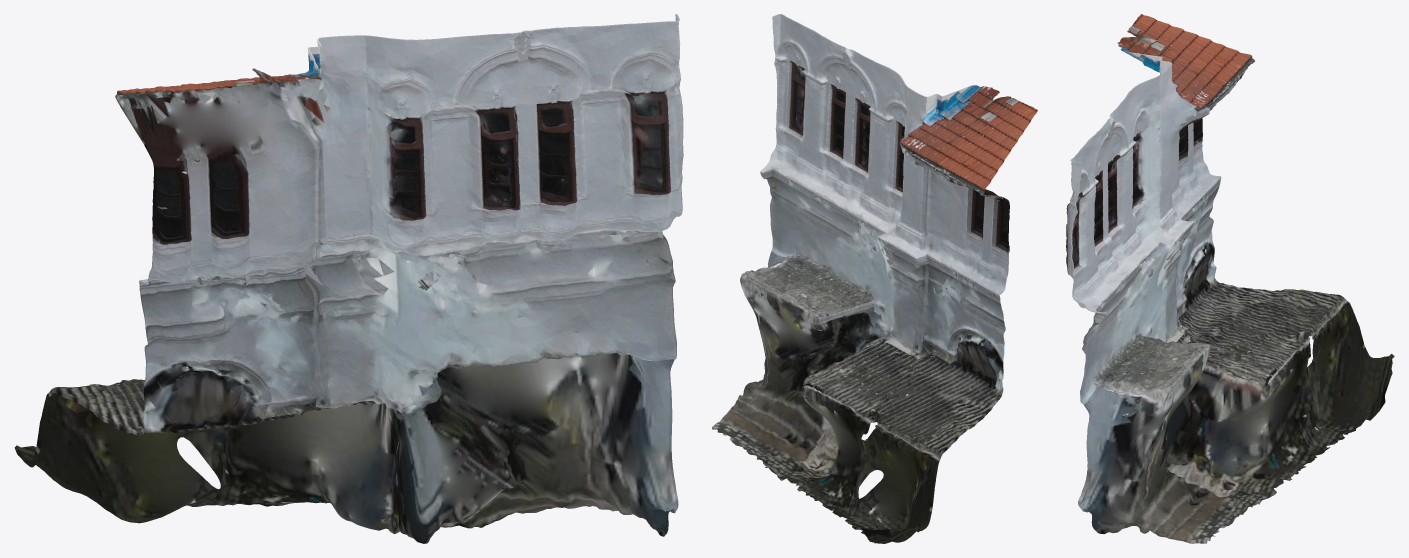
3 views of the same model, side by side, from view 1: azimuth 30°, elevation 25°; view 2: azimuth 150°, elevation 25°; view 3: azimuth 270°, elevation 25° (orthographic). The views are drawn at different scales.
Parts seen in each view (by area): view 1: node_72; view 2: node_72; view 3: node_72.
Part boxes in pixels (x1,y1,x2,y2): node_72: (14, 14, 683, 543); node_72: (712, 14, 1037, 543); node_72: (1066, 14, 1394, 543).
Bounding box in the file's own units: 8.23 × 9.93 × 7.66.
1 material, 1 textured.
